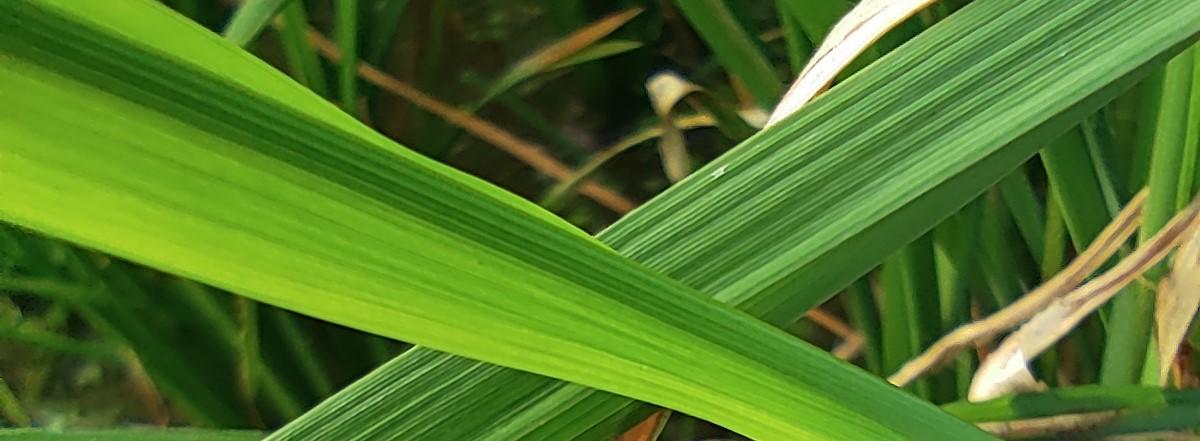Healthy: (1, 0, 992, 440)
